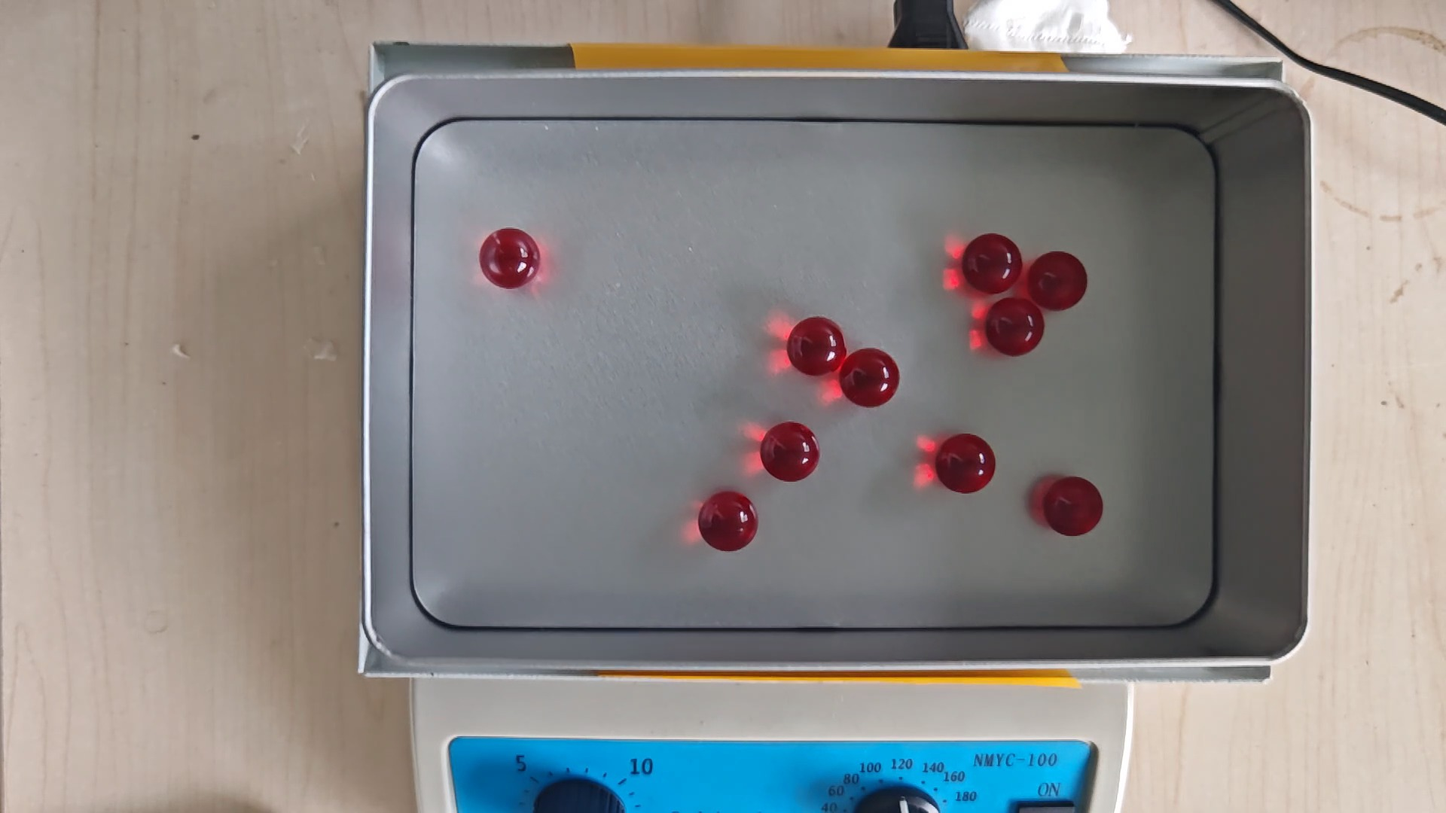ball: (479, 227, 540, 290), (935, 433, 996, 494), (761, 421, 821, 483), (699, 491, 759, 552), (1044, 475, 1103, 537), (963, 233, 1022, 294), (788, 316, 846, 377), (842, 348, 900, 409), (986, 297, 1044, 358), (1030, 250, 1088, 310)
container: (411, 120, 1216, 629)
